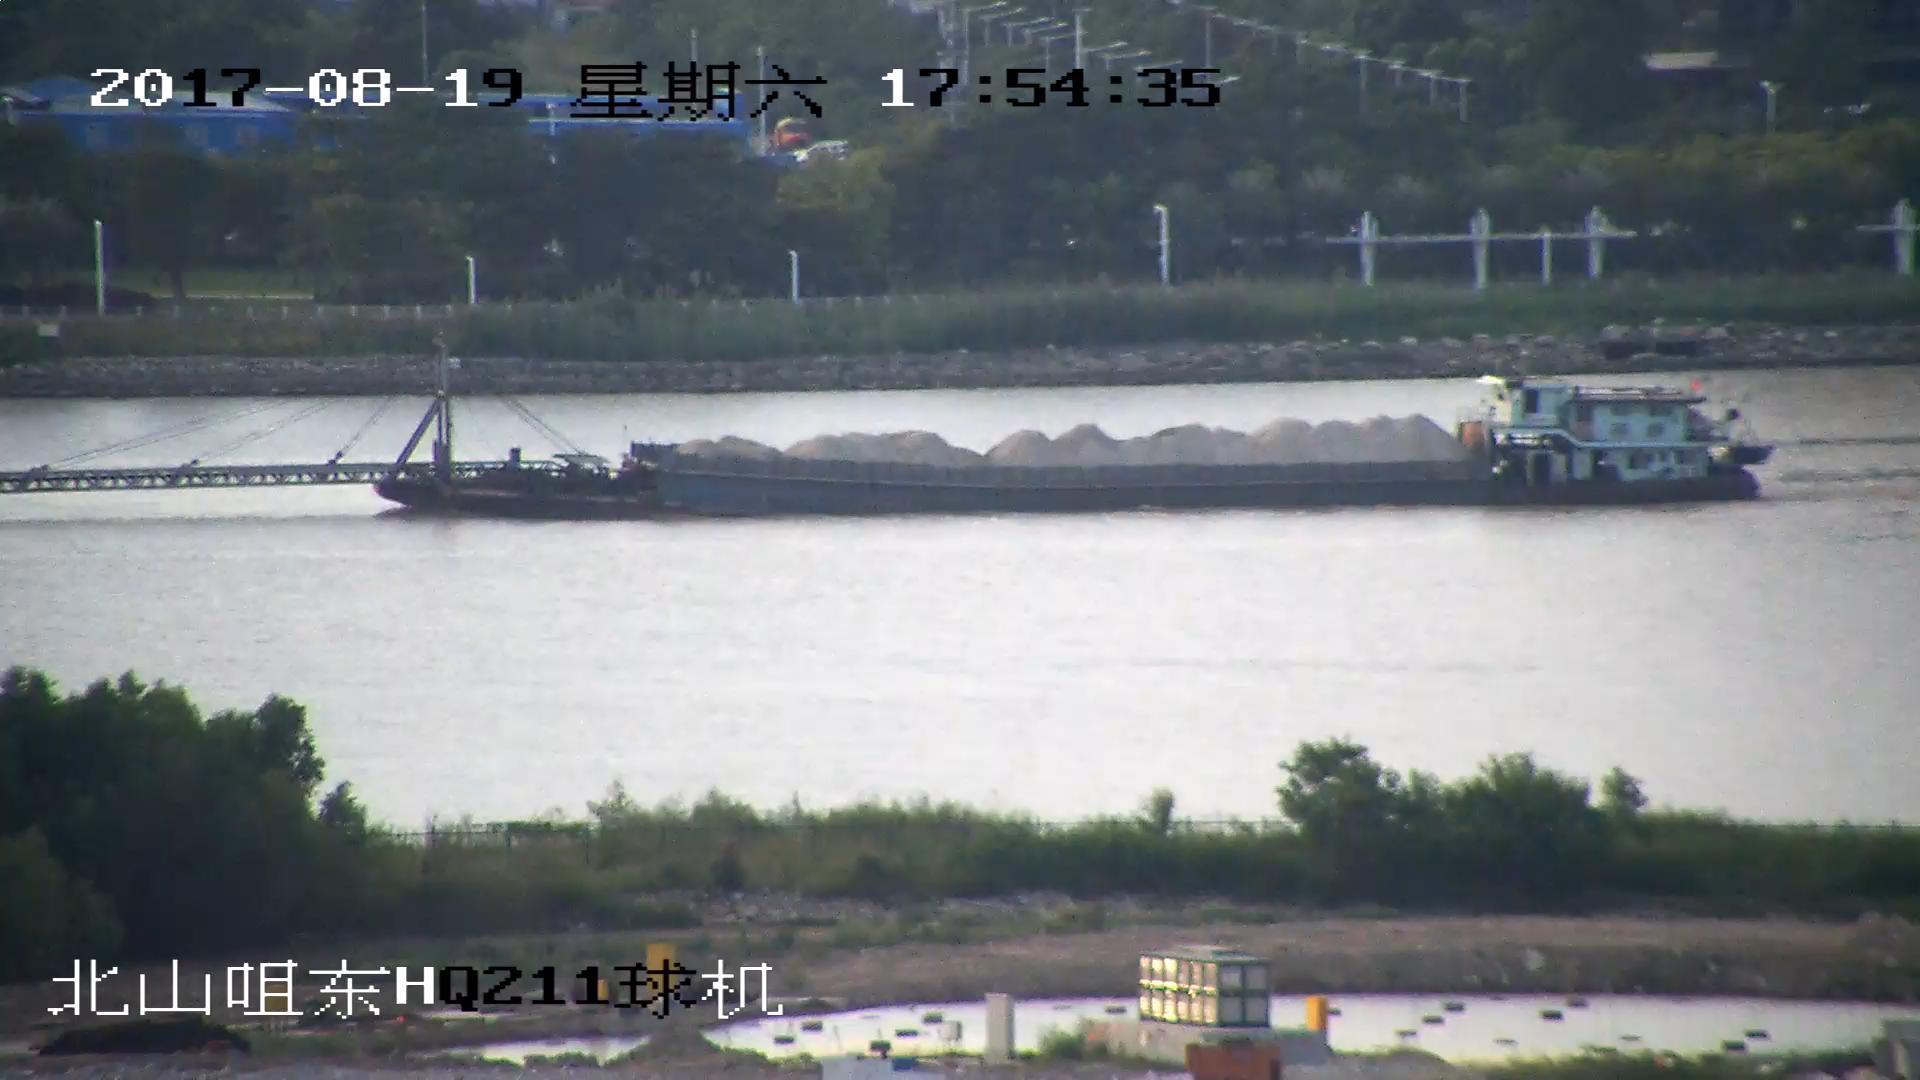Ship: (3, 345, 1778, 516)
